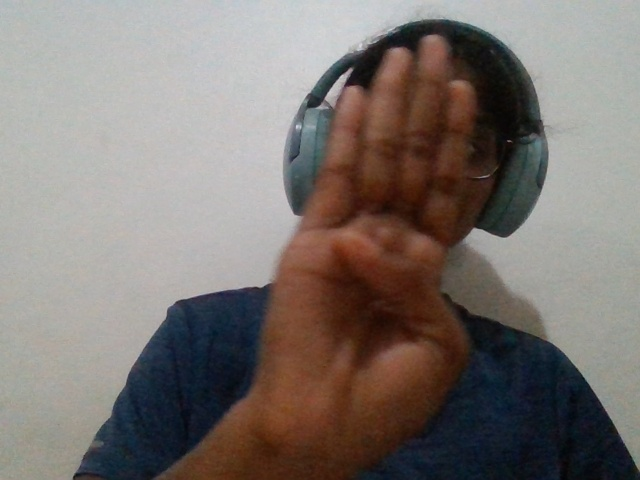B: (236, 22, 487, 480)
